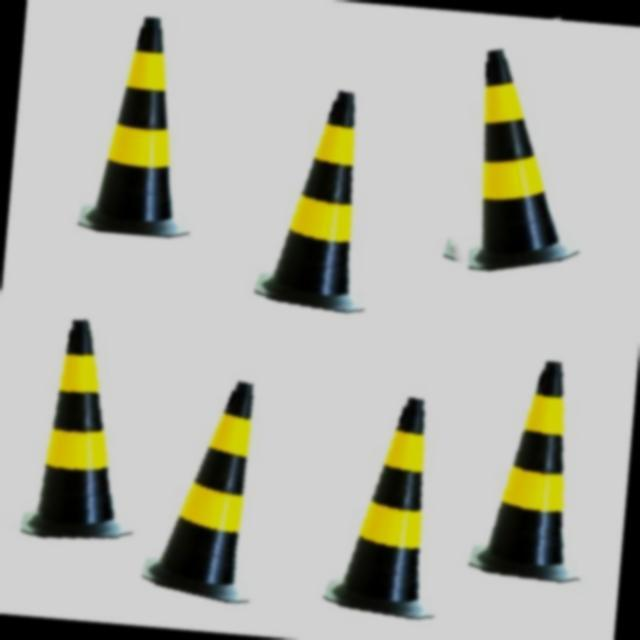traffic cone: (142, 381, 257, 606), (465, 48, 580, 272), (467, 361, 582, 584), (19, 318, 134, 540), (323, 397, 436, 621), (78, 16, 191, 239), (254, 90, 366, 314)
